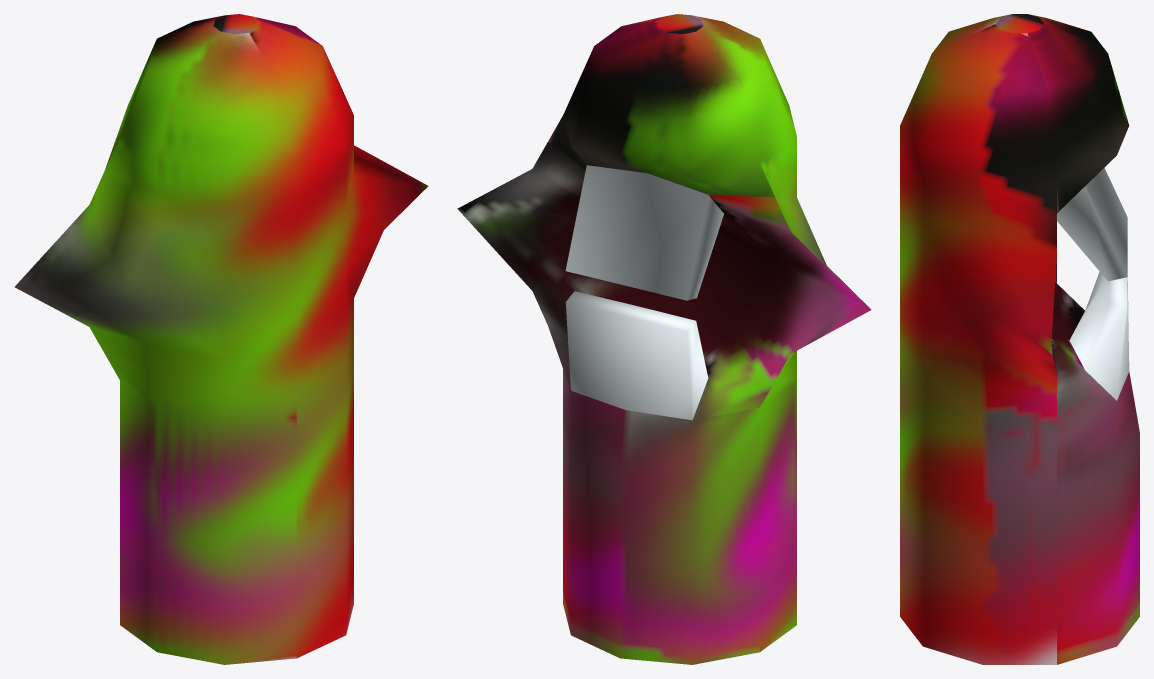
File: struthios.glb
3 renders of one model, left to right at view 1: azimuth 30°, elevation 25°; view 2: azimuth 150°, elevation 25°; view 3: azimuth 270°, elevation 25°, orthographic.
Parts seen in each view (by area): view 1: Cylinder.002; view 2: Cylinder.002; view 3: Cylinder.002.
Boxes of the visible parts, left/top/right/bottom form: Cylinder.002: left=14, top=14, right=428, bottom=664; Cylinder.002: left=457, top=14, right=871, bottom=664; Cylinder.002: left=900, top=14, right=1139, bottom=664.
Bounding box in the file's own units: 1.58 × 2.15 × 0.7872.
Materials: 1 (1 with a texture image).
